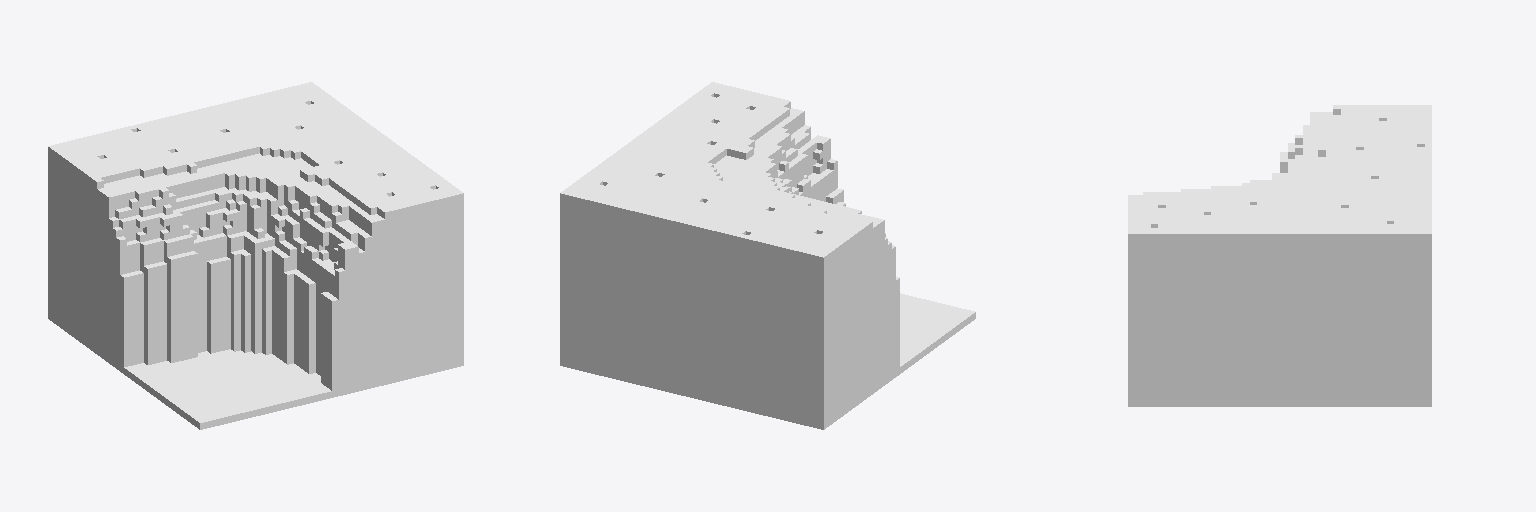
The model's file is tile-cornermountain-1.obj.
3 renders of one model, left to right at view 1: azimuth 30°, elevation 25°; view 2: azimuth 150°, elevation 25°; view 3: azimuth 270°, elevation 25°, orthographic.
Visible parts, largest first — view 1: tile-cornermountain-1; view 2: tile-cornermountain-1; view 3: tile-cornermountain-1.
Boxes of the visible parts, box(x1,y1,x2,y2) form: tile-cornermountain-1: box(48, 82, 463, 429); tile-cornermountain-1: box(560, 82, 975, 429); tile-cornermountain-1: box(1128, 105, 1431, 406).
Size of the model in its own units: 40 by 25 by 40.